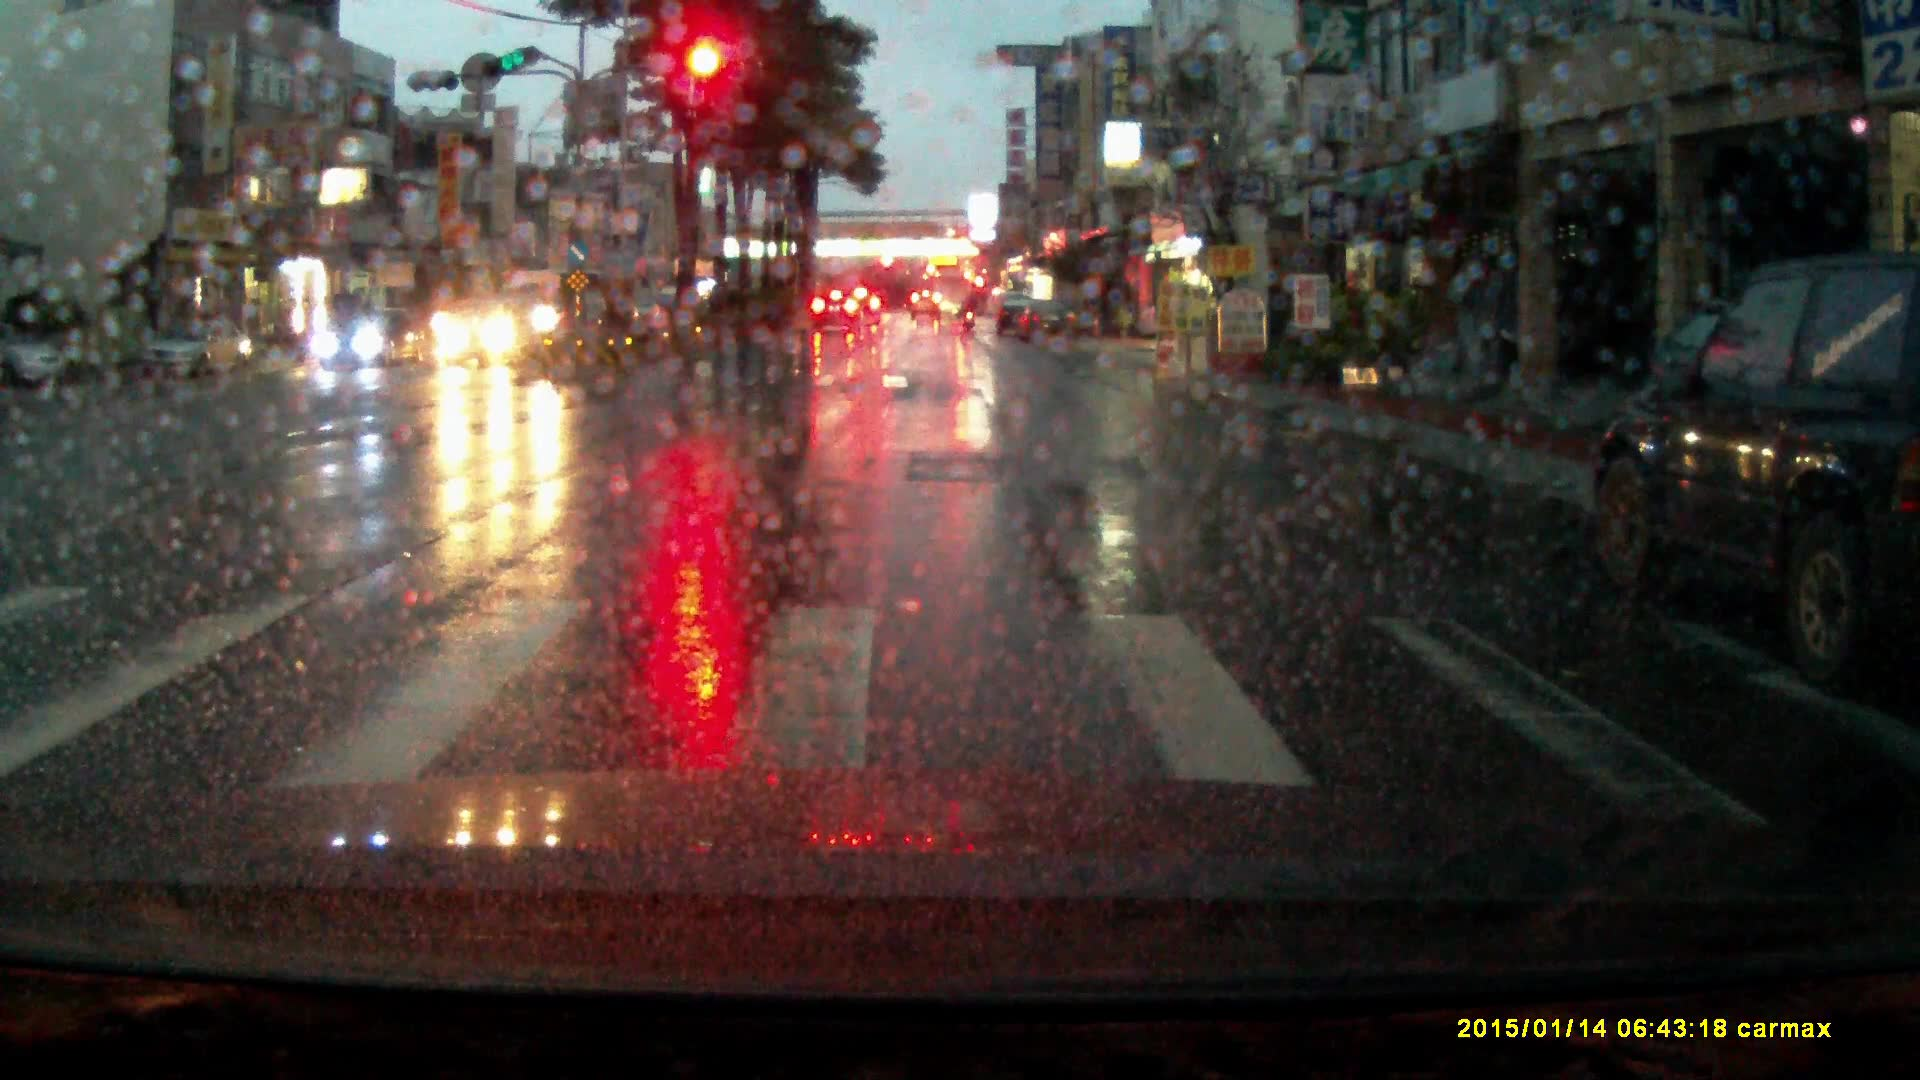rider: (962, 288, 982, 333)
vehicle: (1582, 248, 1920, 683), (431, 298, 546, 370), (315, 306, 428, 375), (142, 314, 253, 380), (494, 268, 591, 341), (574, 288, 664, 340), (1, 331, 69, 389), (1017, 300, 1079, 346), (931, 264, 973, 321), (812, 290, 861, 334), (995, 295, 1030, 338), (853, 288, 883, 327), (911, 291, 943, 322)
